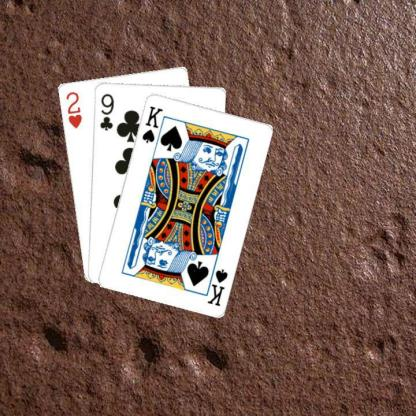2H: (63, 89, 83, 130)
9C: (97, 90, 114, 132)
KS: (202, 260, 229, 307), (139, 103, 164, 144)
